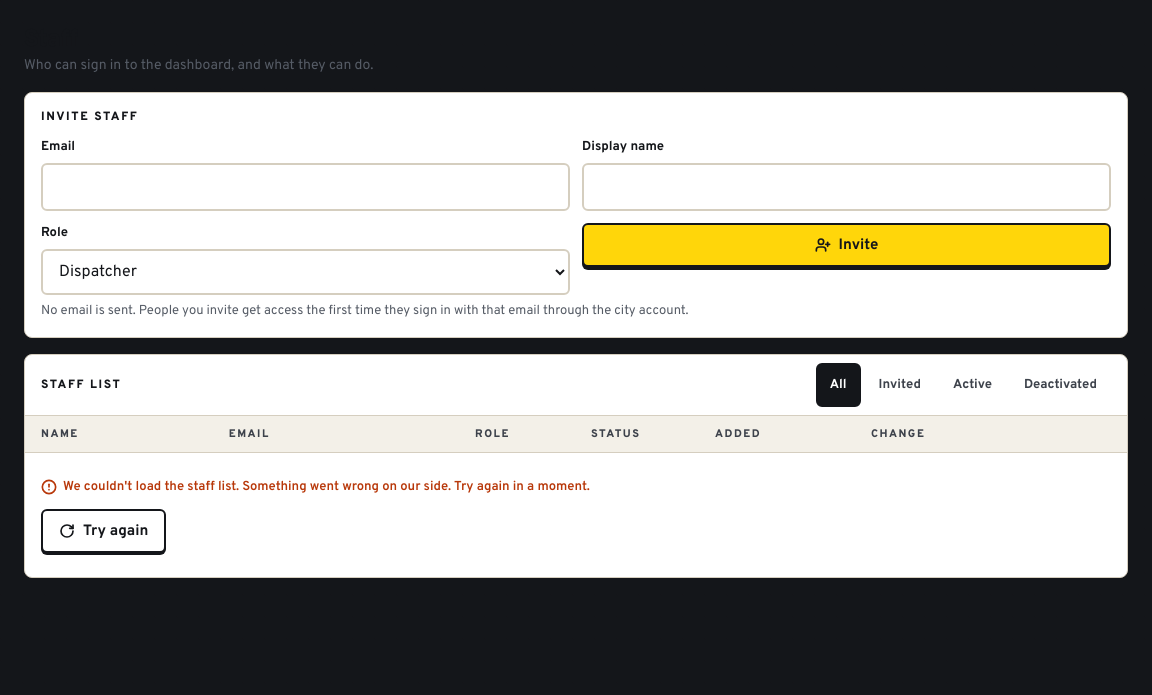
Test: staff list › offers a retry when loading fails
The width and height of the screenshot is (1152, 695).
Expected: the message shows "We couldn't load the staff list", [63,479,590,495]
Click the button "Try again" at (104, 531), box [41,509,166,553]
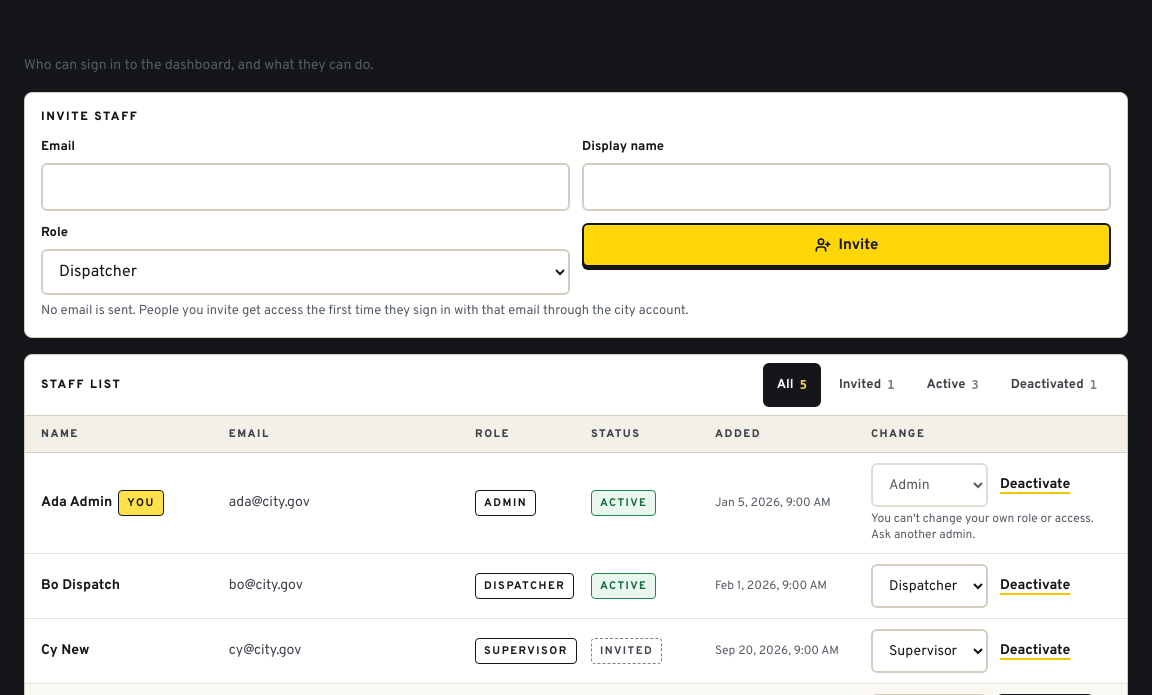
Expected: the list item "Bo Dispatch" is shown, [25,553,1127,618]
